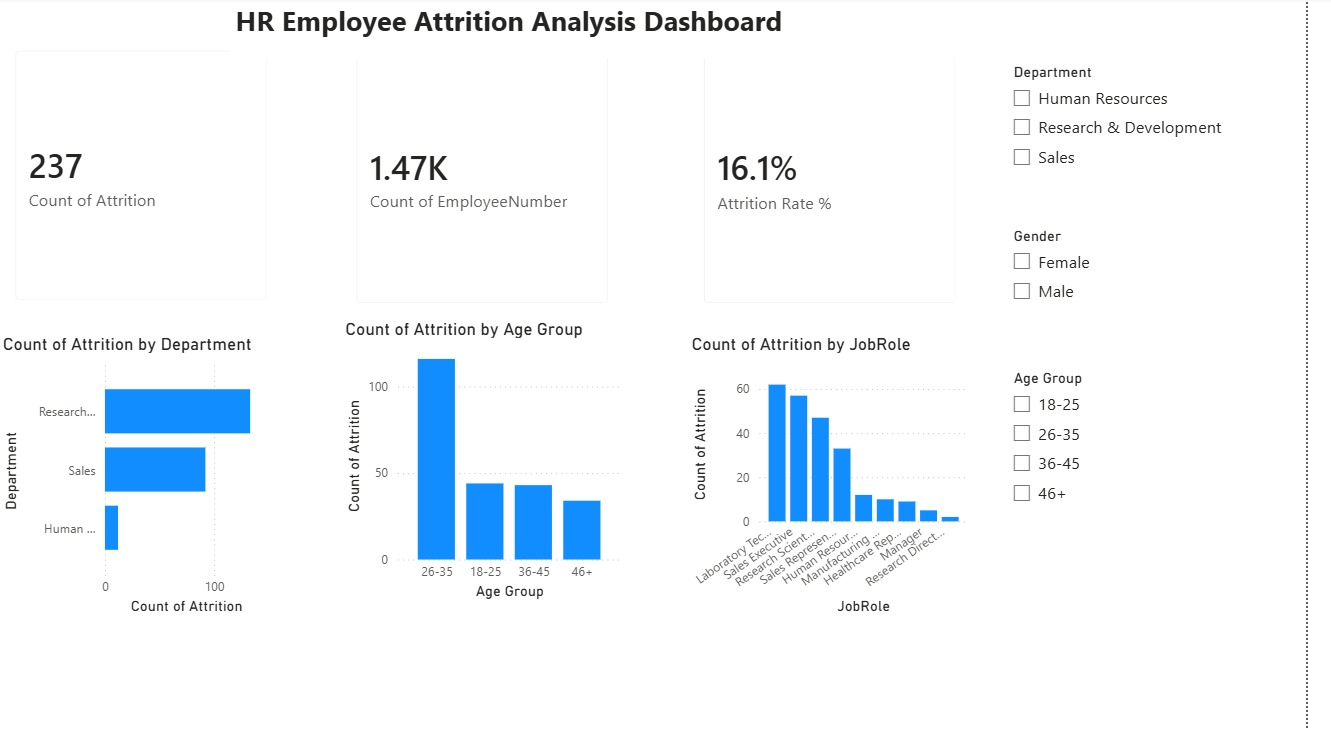

This screenshot's page, from the dashboard's own definition file:
{"tool":"powerbi","page":{"name":"Page 1","canvas":[1280,720],"ordinal":0},"visuals":[{"type":"cardVisual","fields":{"Data":["CountNonNull(HR-Employee-Attrition.Attrition)"]},"box":[0,35.5,280,278.8],"z":0},{"type":"cardVisual","fields":{"Data":["CountNonNull(HR-Employee-Attrition.EmployeeNumber)"]},"box":[333.8,35.5,280,281.3],"z":1000},{"type":"cardVisual","fields":{"Data":["HR-Employee-Attrition.Attrition Rate %"]},"box":[673.8,36.7,280,280],"z":2000},{"type":"clusteredBarChart","fields":{"Category":["HR-Employee-Attrition.Department"],"Y":["CountNonNull(HR-Employee-Attrition.Attrition)"]},"box":[0,328.9,280,280],"z":3000},{"type":"columnChart","fields":{"Category":["HR-Employee-Attrition.Age Group"],"Y":["CountNonNull(HR-Employee-Attrition.Attrition)"]},"box":[335.1,314.3,280,280],"z":4000},{"type":"clusteredColumnChart","fields":{"Category":["HR-Employee-Attrition.JobRole"],"Y":["CountNonNull(HR-Employee-Attrition.Attrition)"]},"box":[673.8,328.9,280,280],"z":5000},{"type":"slicer","fields":{"Values":["HR-Employee-Attrition.Department"]},"box":[981.1,60.4,299.1,299.1],"z":6000},{"type":"slicer","fields":{"Values":["HR-Employee-Attrition.Gender"]},"box":[980.7,220.1,299.6,249.5],"z":6001},{"type":"slicer","fields":{"Values":["HR-Employee-Attrition.Age Group"]},"box":[980.7,359.5,299.6,149.2],"z":6002},{"type":"textbox","box":[227.4,0,815.6,59.9],"z":6003}]}

Visuals, with their boxes in screenshot pixels (x1, y1, x2, y2), scaled from the page's 1280x720 canvas onto the 1331x730 screenshot:
cardVisual - CountNonNull(HR-Employee-Attrition.Attrition): {"left": 0, "top": 36, "right": 291, "bottom": 319}
cardVisual - CountNonNull(HR-Employee-Attrition.EmployeeNumber): {"left": 347, "top": 36, "right": 638, "bottom": 321}
cardVisual - HR-Employee-Attrition.Attrition Rate %: {"left": 701, "top": 37, "right": 992, "bottom": 321}
clusteredBarChart - HR-Employee-Attrition.Department x CountNonNull(HR-Employee-Attrition.Attrition): {"left": 0, "top": 333, "right": 291, "bottom": 617}
columnChart - HR-Employee-Attrition.Age Group x CountNonNull(HR-Employee-Attrition.Attrition): {"left": 348, "top": 319, "right": 640, "bottom": 603}
clusteredColumnChart - HR-Employee-Attrition.JobRole x CountNonNull(HR-Employee-Attrition.Attrition): {"left": 701, "top": 333, "right": 992, "bottom": 617}
slicer - HR-Employee-Attrition.Department: {"left": 1020, "top": 61, "right": 1330, "bottom": 364}
slicer - HR-Employee-Attrition.Gender: {"left": 1020, "top": 223, "right": 1330, "bottom": 476}
slicer - HR-Employee-Attrition.Age Group: {"left": 1020, "top": 364, "right": 1330, "bottom": 516}
textbox: {"left": 236, "top": 0, "right": 1085, "bottom": 61}
